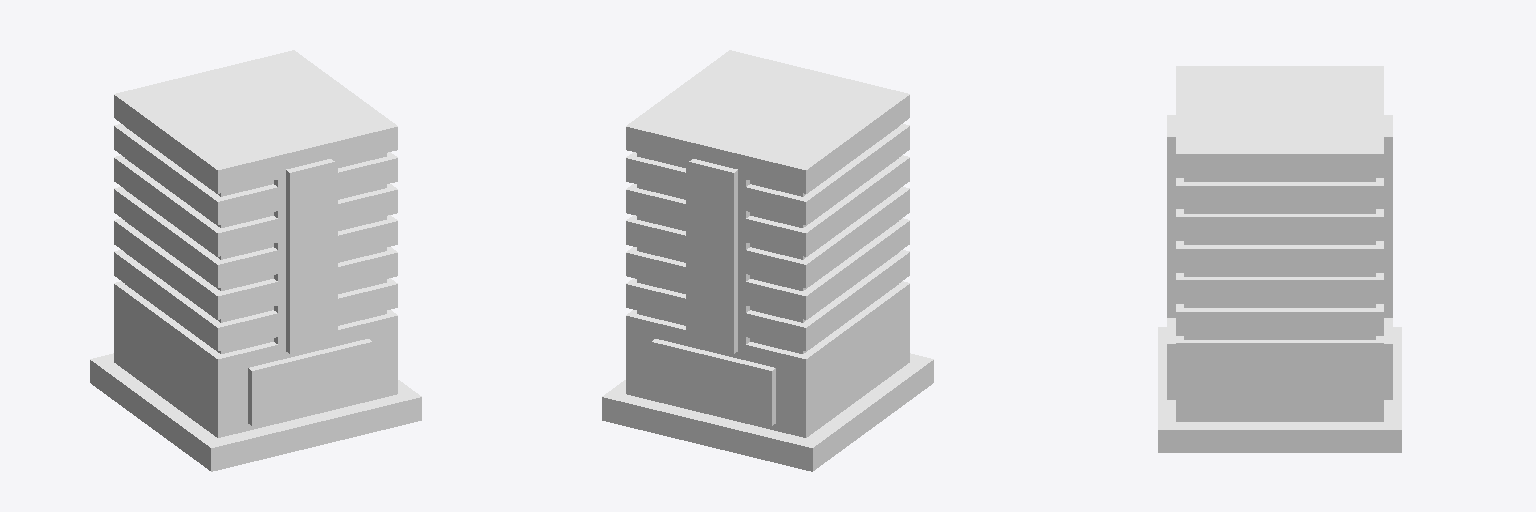
Rendered from Batterie-0-Batterie.obj.
3 renders of one model, left to right at view 1: azimuth 30°, elevation 25°; view 2: azimuth 150°, elevation 25°; view 3: azimuth 270°, elevation 25°, orthographic.
Visible parts, largest first — view 1: Batterie; view 2: Batterie; view 3: Batterie.
Boxes of the visible parts, box(x1,y1,x2,y2) form: Batterie: box(90, 50, 421, 471); Batterie: box(602, 50, 933, 471); Batterie: box(1158, 66, 1401, 452).
Size of the model in its own units: 2.8 by 3.7 by 2.8.